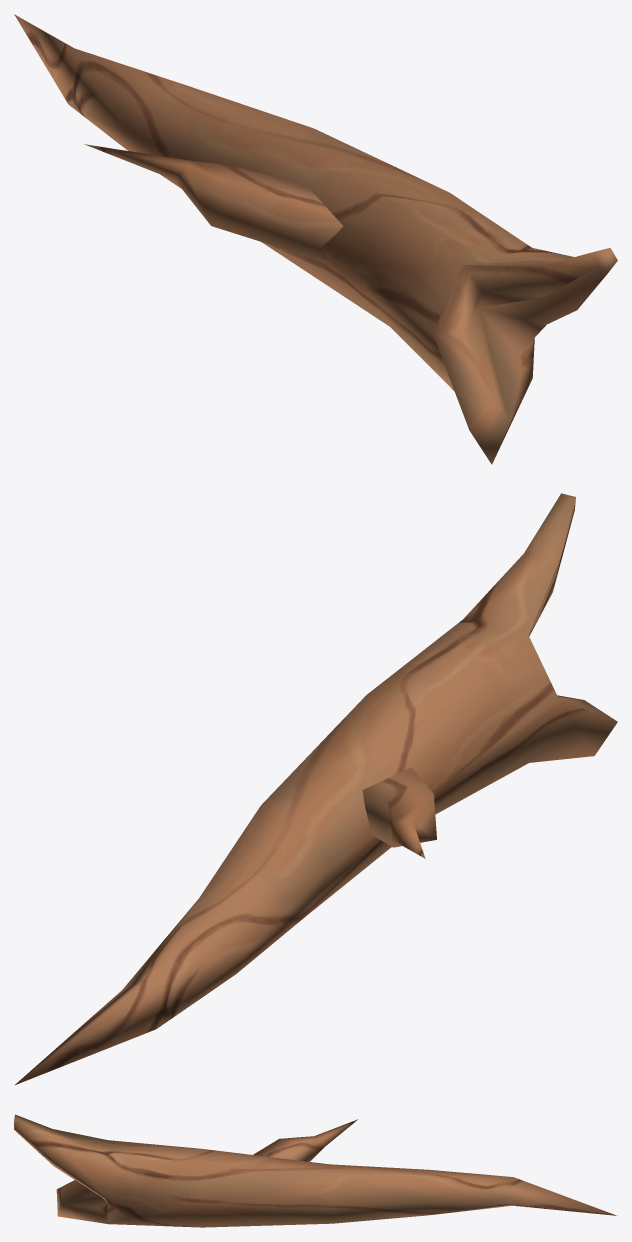
Rendered from Fbx_DeadTree04.fbx.
The picture shows the model from 3 angles, top to bottom: view 1: azimuth 30°, elevation 25°; view 2: azimuth 150°, elevation 25°; view 3: azimuth 270°, elevation 25°; orthographic projection. The views are drawn at different scales.
Visible parts, largest first — view 1: DeadTree04; view 2: DeadTree04; view 3: DeadTree04.
Boxes of the visible parts, box(x1,y1,x2,y2) form: DeadTree04: box(14, 14, 617, 464); DeadTree04: box(15, 493, 617, 1084); DeadTree04: box(14, 1114, 617, 1227).
Bounding box in the file's own units: 69.36 × 61.11 × 285.
1 material, 1 textured.
